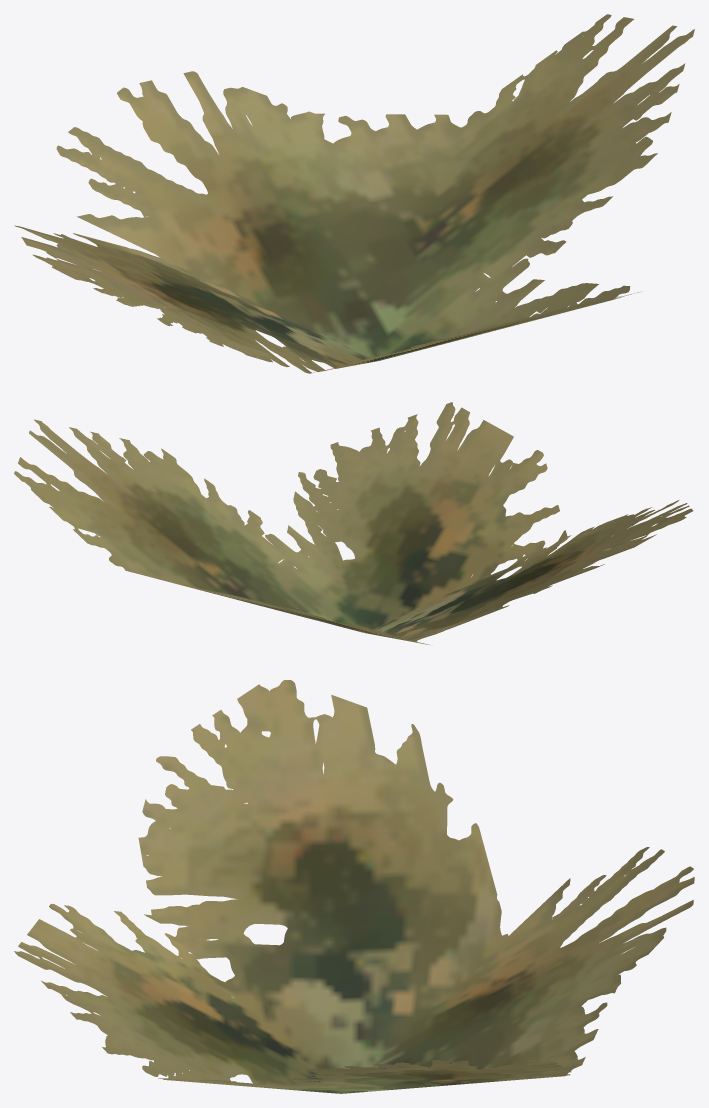
The model's file is oVgtAIO1A.FBX.
The picture shows the model from 3 angles, top to bottom: view 1: azimuth 30°, elevation 25°; view 2: azimuth 150°, elevation 25°; view 3: azimuth 270°, elevation 25°; orthographic projection. The views are drawn at different scales.
Parts seen in each view (by area): view 1: oVgtAIO1A; view 2: oVgtAIO1A; view 3: oVgtAIO1A.
Boxes of the visible parts, <box> form: oVgtAIO1A: <box>14,14,694,373</box>; oVgtAIO1A: <box>14,402,692,645</box>; oVgtAIO1A: <box>14,680,694,1093</box>.
Size of the model in its own units: 7.66 by 5.83 by 2.15.
